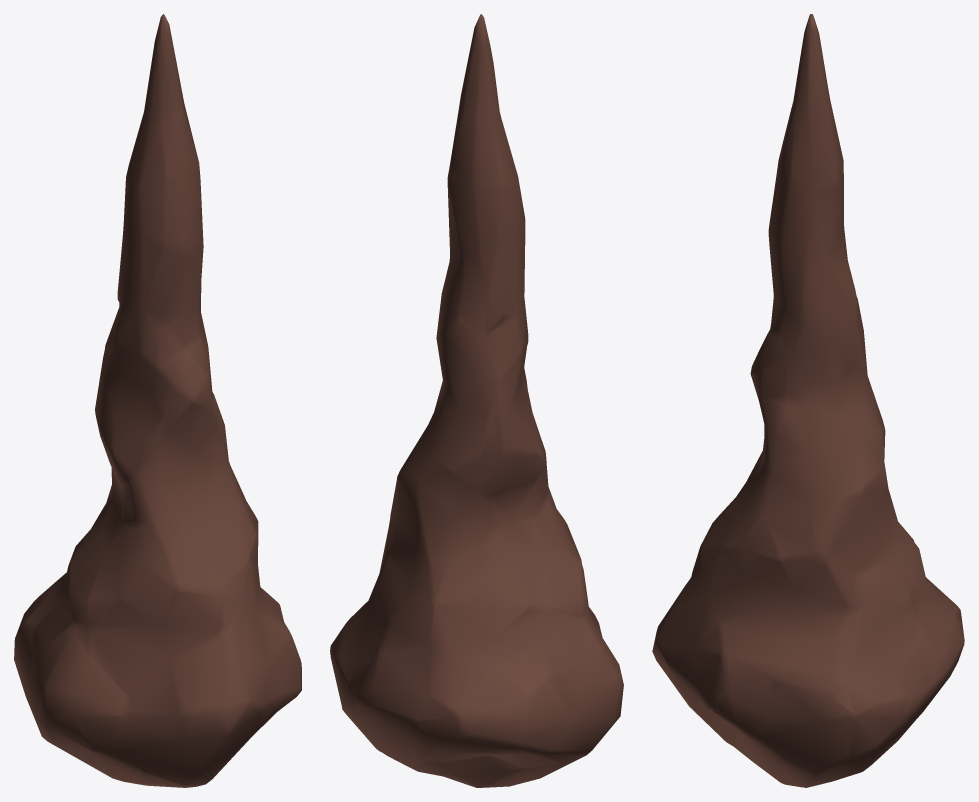
Rendered from hvs_fillers_stalagmitestonesmall01.fbx.
3 renders of one model, left to right at view 1: azimuth 30°, elevation 25°; view 2: azimuth 150°, elevation 25°; view 3: azimuth 270°, elevation 25°, orthographic.
Visible parts, largest first — view 1: Cone.010; view 2: Cone.010; view 3: Cone.010.
Boxes of the visible parts, box(x1,y1,x2,y2) form: Cone.010: box(14, 14, 301, 787); Cone.010: box(330, 14, 623, 787); Cone.010: box(652, 14, 964, 787).
Size of the model in its own units: 4.55 by 12.95 by 4.83.
